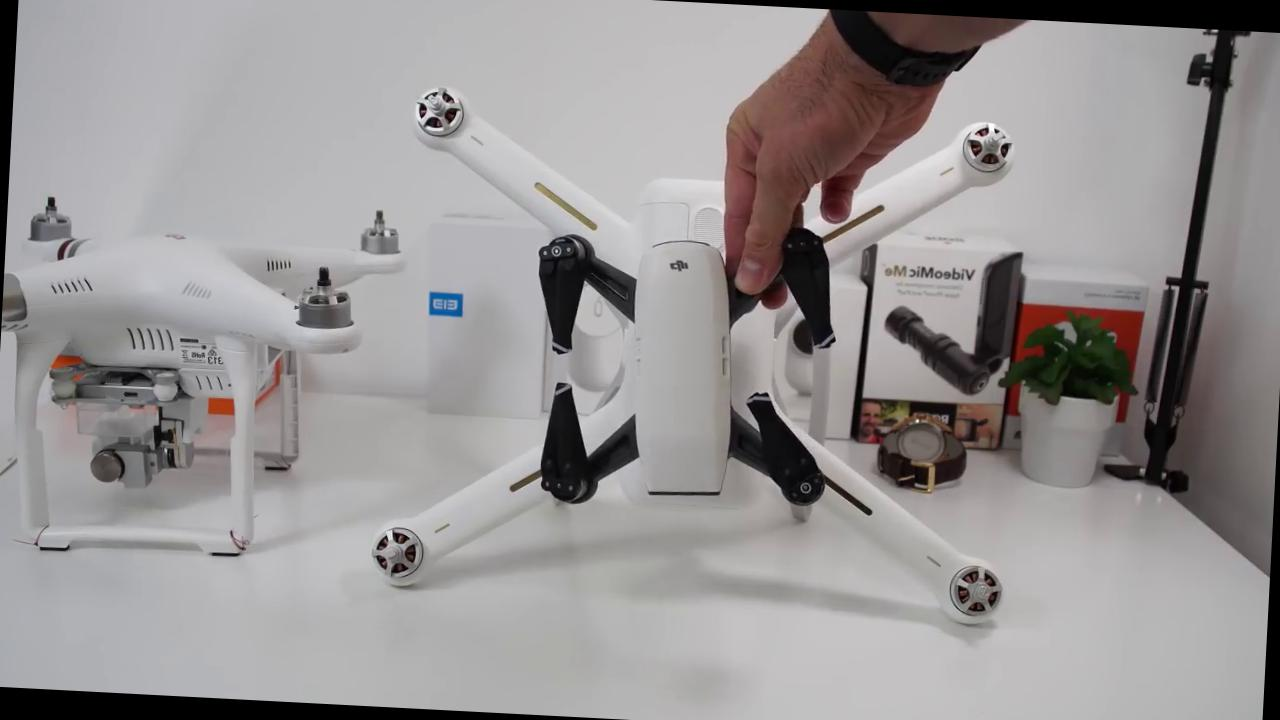drone: (352, 70, 1050, 610), (0, 180, 428, 364)
